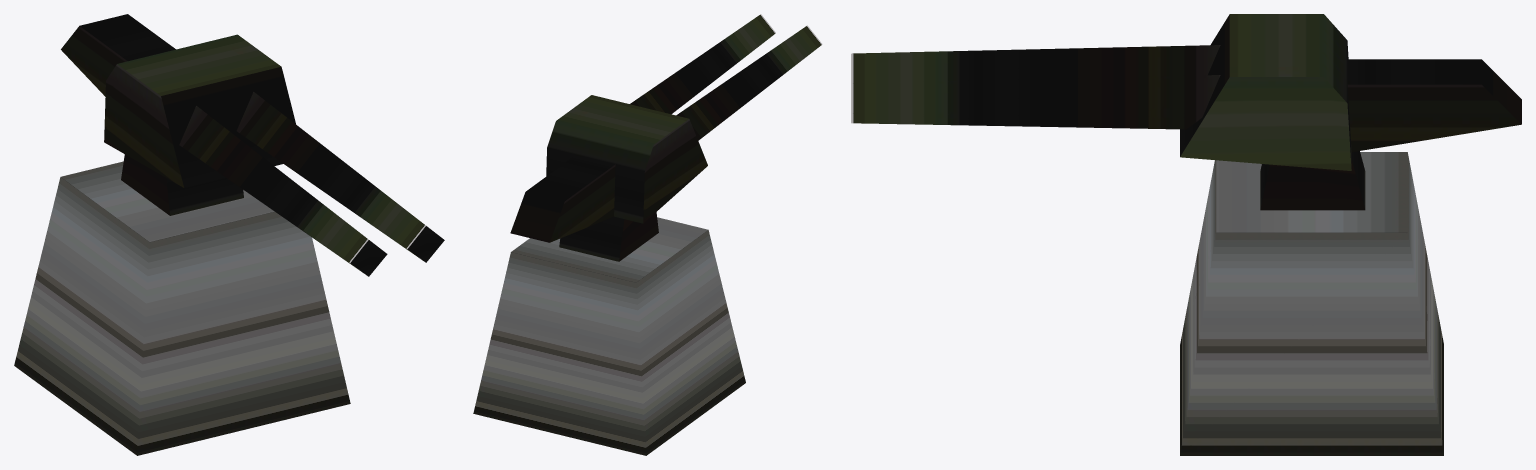
Rendered from mediumautocannonturret_hdtex.glb.
3 renders of one model, left to right at view 1: azimuth 30°, elevation 25°; view 2: azimuth 150°, elevation 25°; view 3: azimuth 270°, elevation 25°, orthographic. The views are drawn at different scales.
Visible parts, largest first — view 1: Base, Turret; view 2: Base, Turret; view 3: Turret, Base.
Boxes of the visible parts, left/top/right/bottom form: Base: left=14, top=161, right=350, bottom=455; Turret: left=61, top=14, right=444, bottom=276; Base: left=473, top=217, right=745, bottom=455; Turret: left=510, top=14, right=822, bottom=261; Turret: left=851, top=14, right=1521, bottom=210; Base: left=1180, top=152, right=1443, bottom=455.
Bounding box in the file's own units: 4.6 × 6.83 × 11.69.
2 materials, 2 textured.
